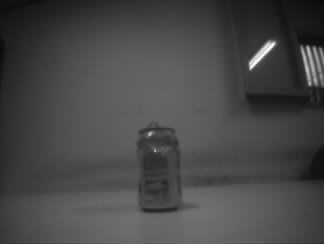Tin can: (136, 121, 182, 212)
